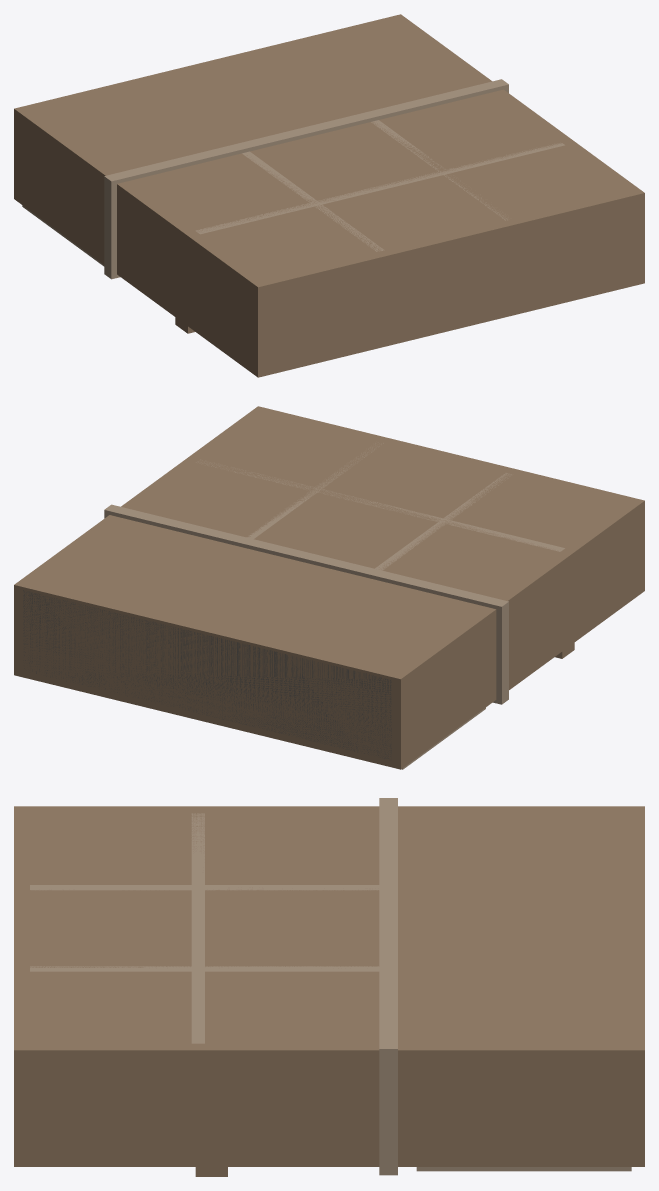
File: staff_room_top_left_cabinet.glb
The picture shows the model from 3 angles, top to bottom: view 1: azimuth 30°, elevation 25°; view 2: azimuth 150°, elevation 25°; view 3: azimuth 270°, elevation 25°; orthographic projection. The views are drawn at different scales.
Parts seen in each view (by area): view 1: UpperBack, LowerCabinetBody, UpperTop, UpperLeftSide, CounterTop, UpperRightSide, UpperMiddleShelf, UpperDivider_-0.36, UpperDivider_0.36; view 2: LowerCabinetBody, UpperBack, UpperLeftSide, Plinth, CounterTop, UpperTop, UpperMiddleShelf, UpperDivider_-0.36, UpperRightSide, UpperDivider_0.36; view 3: LowerCabinetBody, UpperBack, UpperRightSide, CounterTop, UpperTop, UpperMiddleShelf, UpperLeftSide, UpperDivider_0.36, UpperDivider_-0.36, LowerPanel_4.
Boxes of the visible parts, left/top/right/bottom form: UpperBack: left=117, top=89, right=644, bottom=293; LowerCabinetBody: left=14, top=14, right=491, bottom=264; UpperTop: left=252, top=191, right=643, bottom=376; UpperLeftSide: left=117, top=181, right=268, bottom=377; CounterTop: left=104, top=79, right=508, bottom=279; UpperRightSide: left=493, top=90, right=644, bottom=285; UpperMiddleShelf: left=195, top=142, right=564, bottom=234; UpperDivider_-0.36: left=242, top=151, right=384, bottom=251; UpperDivider_0.36: left=371, top=120, right=508, bottom=220; LowerCabinetBody: left=14, top=515, right=496, bottom=769; UpperBack: left=121, top=406, right=644, bottom=606; UpperLeftSide: left=497, top=498, right=644, bottom=689; Plinth: left=23, top=590, right=391, bottom=758; CounterTop: left=104, top=504, right=508, bottom=704; UpperTop: left=260, top=408, right=644, bottom=594; UpperMiddleShelf: left=196, top=459, right=564, bottom=551; UpperDivider_-0.36: left=375, top=473, right=511, bottom=570; UpperRightSide: left=122, top=407, right=266, bottom=509; UpperDivider_0.36: left=246, top=442, right=383, bottom=538; LowerCabinetBody: left=398, top=806, right=644, bottom=1166; UpperBack: left=14, top=806, right=379, bottom=1058; UpperRightSide: left=14, top=1043, right=379, bottom=1166; CounterTop: left=379, top=798, right=397, bottom=1175; UpperTop: left=14, top=806, right=29, bottom=1166; UpperMiddleShelf: left=191, top=813, right=204, bottom=1043; UpperLeftSide: left=14, top=806, right=379, bottom=813; UpperDivider_0.36: left=30, top=966, right=379, bottom=971; UpperDivider_-0.36: left=30, top=885, right=379, bottom=890; LowerPanel_4: left=416, top=1167, right=631, bottom=1171.
Bounding box in the file's own units: 2.21 × 0.5825 × 2.35.
